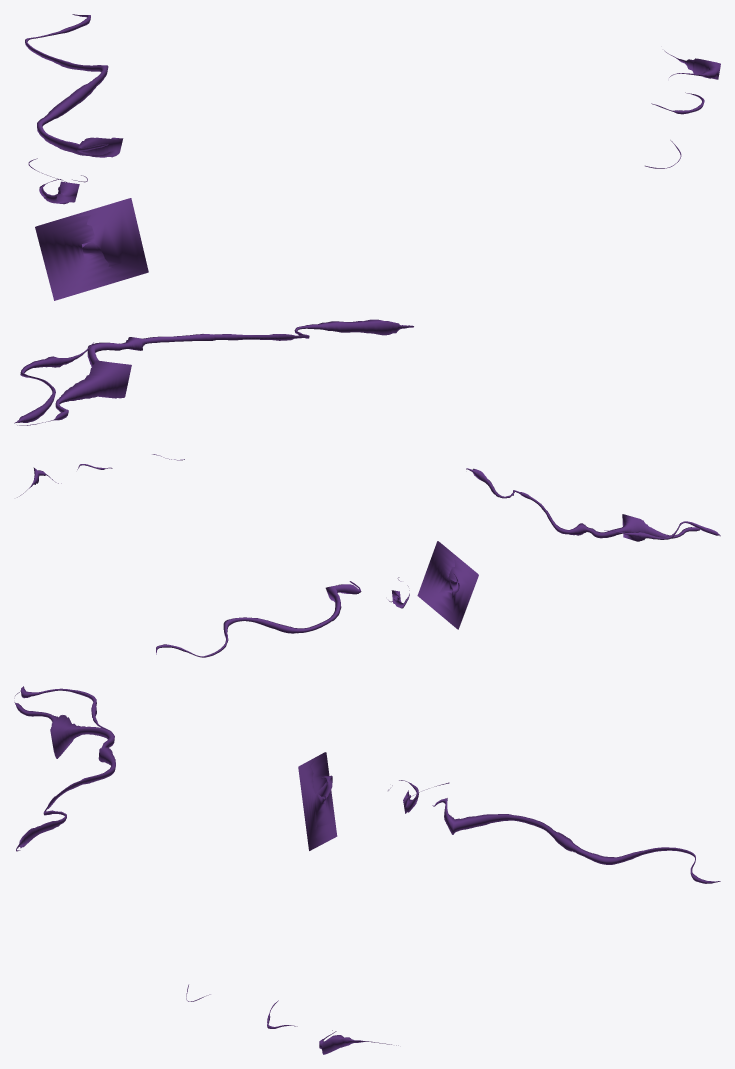
Rendered from Drawing-2.glb.
The picture shows the model from 3 angles, top to bottom: view 1: azimuth 30°, elevation 25°; view 2: azimuth 150°, elevation 25°; view 3: azimuth 270°, elevation 25°; orthographic projection. The views are drawn at different scales.
Parts seen in each view (by area): view 1: Tube Stroke 5, Tube Stroke 7, Tube Stroke 4, Tube Stroke 6; view 2: Tube Stroke 5, Tube Stroke 7, Tube Stroke 4, Tube Stroke 6; view 3: Tube Stroke 7, Tube Stroke 5, Tube Stroke 4.
Part boxes in pixels (bbox=[...]): Tube Stroke 5: bbox=[35, 198, 148, 300]; Tube Stroke 7: bbox=[17, 319, 413, 425]; Tube Stroke 4: bbox=[25, 14, 123, 157]; Tube Stroke 6: bbox=[14, 342, 93, 423]; Tube Stroke 5: bbox=[417, 541, 478, 629]; Tube Stroke 7: bbox=[466, 468, 718, 541]; Tube Stroke 4: bbox=[156, 581, 361, 657]; Tube Stroke 6: bbox=[604, 521, 720, 539]; Tube Stroke 7: bbox=[14, 691, 115, 851]; Tube Stroke 5: bbox=[298, 752, 337, 850]; Tube Stroke 4: bbox=[432, 798, 720, 883].
Bounding box in the file's own units: 17.41 × 2.01 × 14.04.
